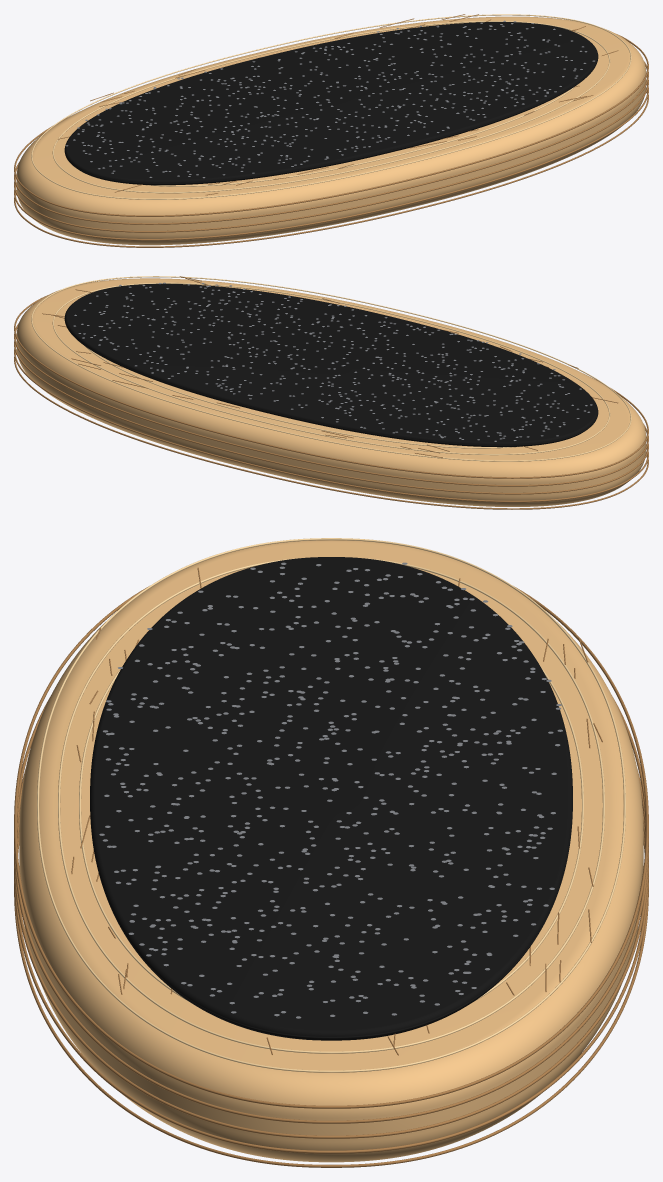
Rendered from Balance-Board_3D_v2.glb.
3 renders of one model, top to bottom at view 1: azimuth 30°, elevation 25°; view 2: azimuth 150°, elevation 25°; view 3: azimuth 270°, elevation 25°, orthographic. The views are drawn at different scales.
Visible parts, largest first — view 1: Balance-Board_3D_v2_new_v2_deep_matte_black, Balance-Board_3D_v2_new_v2_warm_layered_wood, Balance-Board_3D_v2_new_v2_dark_wood_grain, Balance-Board_3D_v2_new_v2_light_wood_edge, Balance-Board_3D_v2_new_v2_grip_speckles; view 2: Balance-Board_3D_v2_new_v2_deep_matte_black, Balance-Board_3D_v2_new_v2_warm_layered_wood, Balance-Board_3D_v2_new_v2_dark_wood_grain, Balance-Board_3D_v2_new_v2_light_wood_edge, Balance-Board_3D_v2_new_v2_grip_speckles; view 3: Balance-Board_3D_v2_new_v2_deep_matte_black, Balance-Board_3D_v2_new_v2_warm_layered_wood, Balance-Board_3D_v2_new_v2_dark_wood_grain, Balance-Board_3D_v2_new_v2_grip_speckles, Balance-Board_3D_v2_new_v2_light_wood_edge.
Boxes of the visible parts, box(x1,y1,x2,y2) form: Balance-Board_3D_v2_new_v2_deep_matte_black: box(64, 22, 598, 185); Balance-Board_3D_v2_new_v2_warm_layered_wood: box(16, 16, 646, 245); Balance-Board_3D_v2_new_v2_dark_wood_grain: box(14, 14, 648, 247); Balance-Board_3D_v2_new_v2_light_wood_edge: box(31, 14, 631, 199); Balance-Board_3D_v2_new_v2_grip_speckles: box(65, 20, 594, 178); Balance-Board_3D_v2_new_v2_deep_matte_black: box(64, 283, 598, 447); Balance-Board_3D_v2_new_v2_warm_layered_wood: box(16, 278, 646, 506); Balance-Board_3D_v2_new_v2_dark_wood_grain: box(14, 276, 648, 509); Balance-Board_3D_v2_new_v2_light_wood_edge: box(31, 276, 631, 461); Balance-Board_3D_v2_new_v2_grip_speckles: box(73, 282, 592, 441); Balance-Board_3D_v2_new_v2_deep_matte_black: box(90, 557, 572, 1040); Balance-Board_3D_v2_new_v2_warm_layered_wood: box(19, 540, 643, 1162); Balance-Board_3D_v2_new_v2_dark_wood_grain: box(14, 567, 648, 1167); Balance-Board_3D_v2_new_v2_grip_speckles: box(99, 562, 562, 1018); Balance-Board_3D_v2_new_v2_light_wood_edge: box(37, 538, 625, 1072).
Size of the model in its own units: 1.45 by 0.249 by 0.6914.
